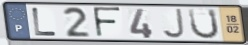2: (62, 6, 92, 39)
4: (128, 7, 156, 40)
F: (91, 6, 123, 39)
J: (161, 8, 187, 40)
L: (31, 7, 59, 37)
U: (187, 8, 221, 40)
